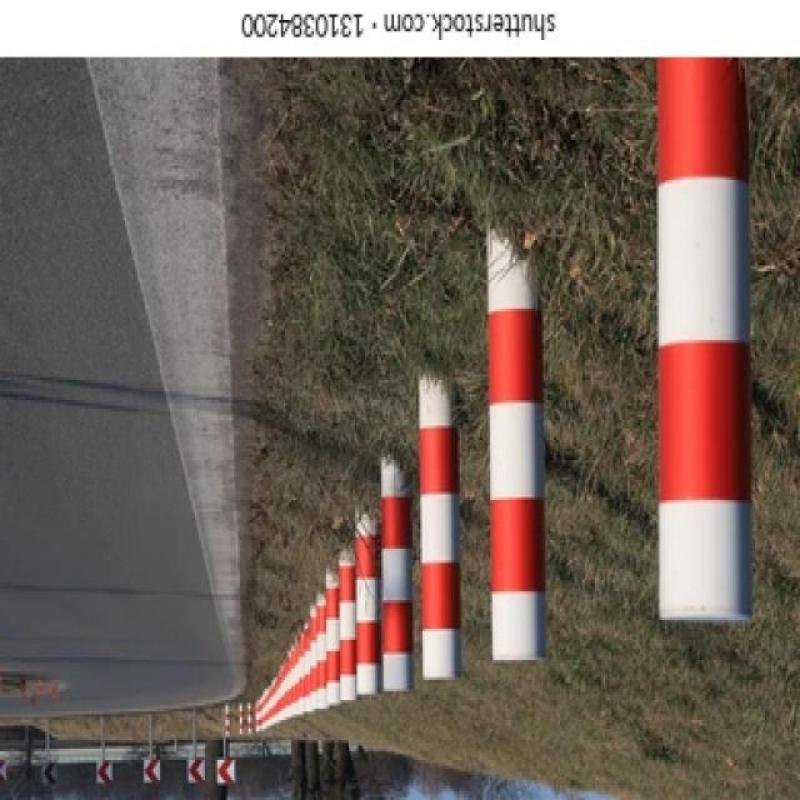pillar: (650, 54, 763, 639), (480, 209, 561, 681), (411, 338, 468, 694), (378, 431, 418, 704), (356, 494, 386, 713), (338, 539, 358, 706), (325, 556, 341, 706), (281, 635, 304, 707), (308, 589, 322, 703), (242, 691, 254, 738), (219, 694, 232, 734), (235, 695, 247, 737), (272, 669, 282, 718), (262, 678, 268, 730)
